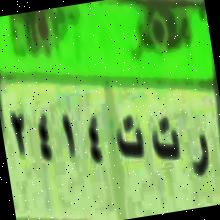1: (56, 107, 82, 168)
2: (3, 101, 35, 172)
4: (28, 107, 60, 172), (78, 107, 107, 168)
raa: (183, 120, 215, 190)
taa: (146, 112, 186, 172), (111, 107, 149, 166)
